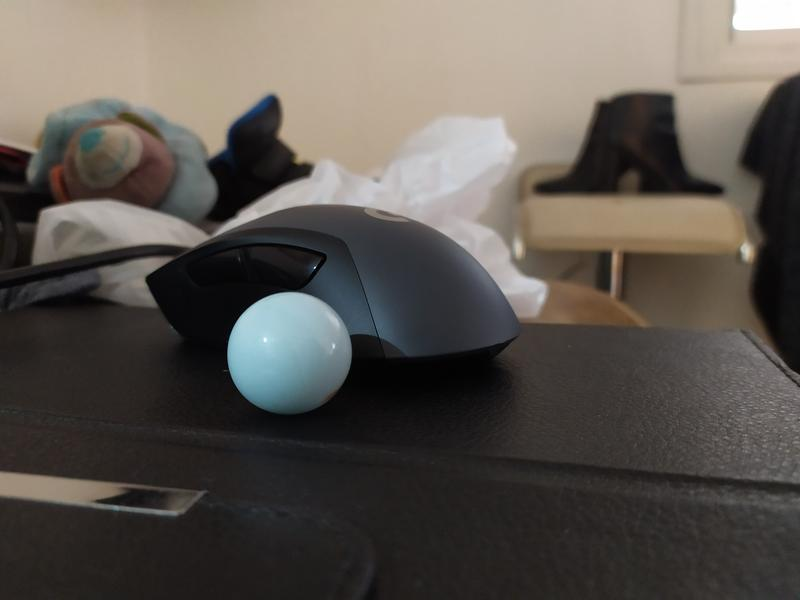Warning: (224, 289, 357, 419)
